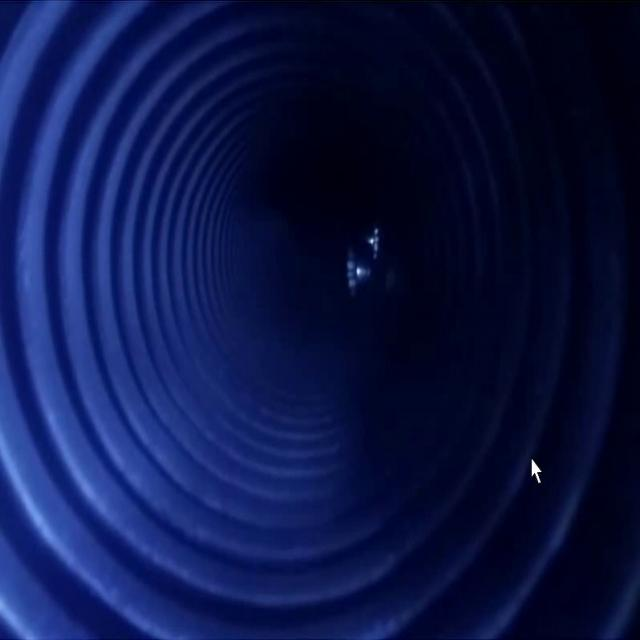metal piece: (346, 221, 382, 298)
